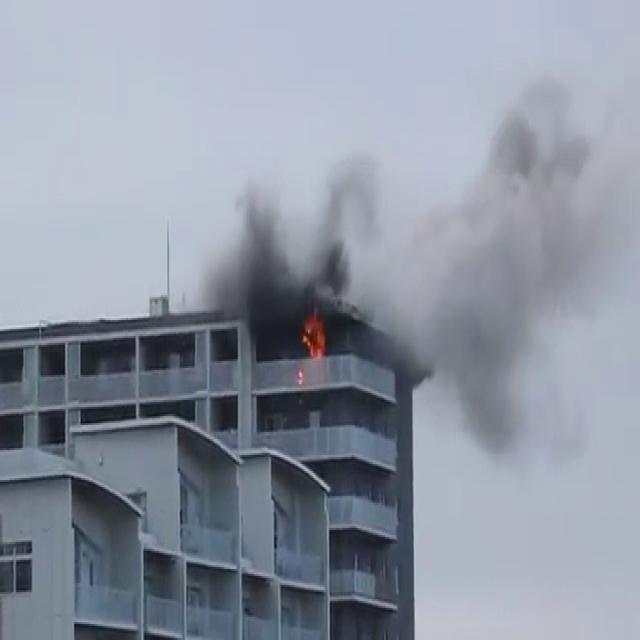Smoke: (190, 93, 640, 394)
